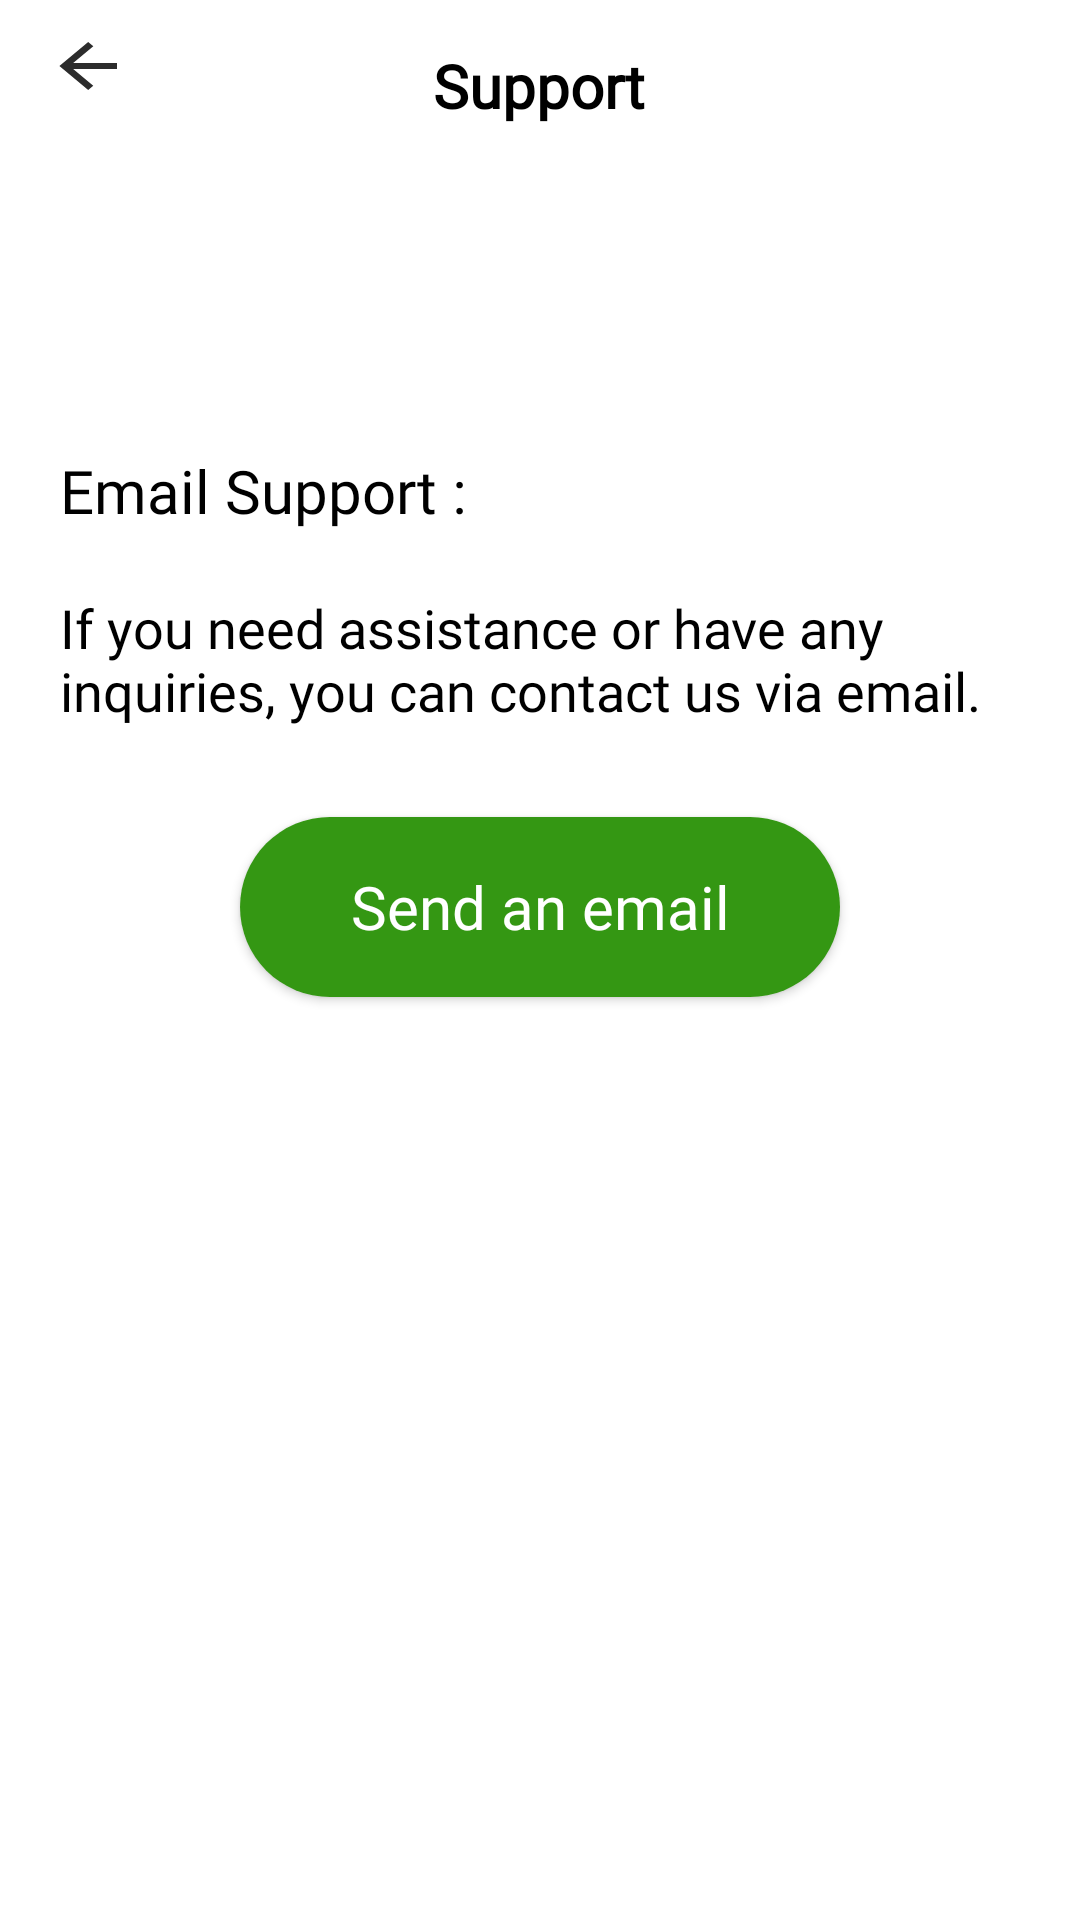

Screen size 1080px x 1920px. Icon name, then its center in pixels as (x=x, y=y):
arrow back: (x=88, y=66)
